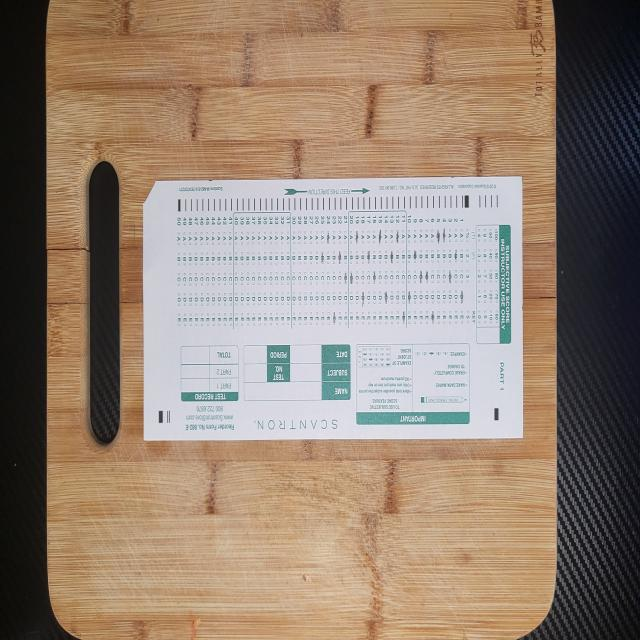scantron: (143, 176, 523, 440)
